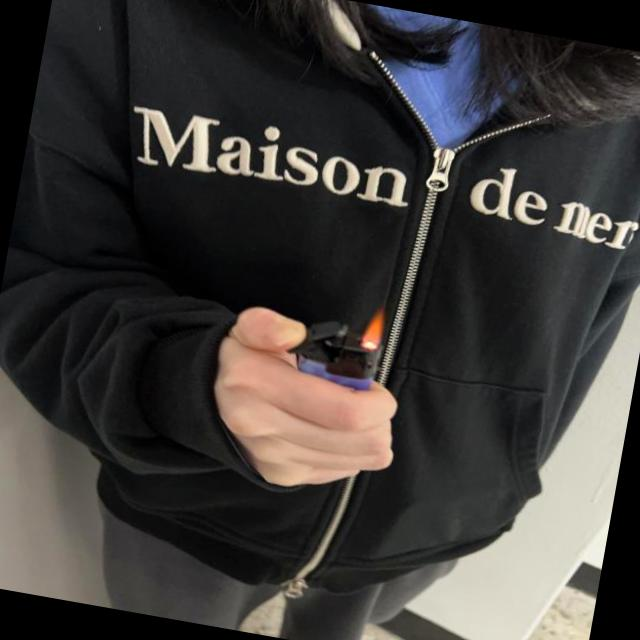fire: (359, 302, 392, 354)
